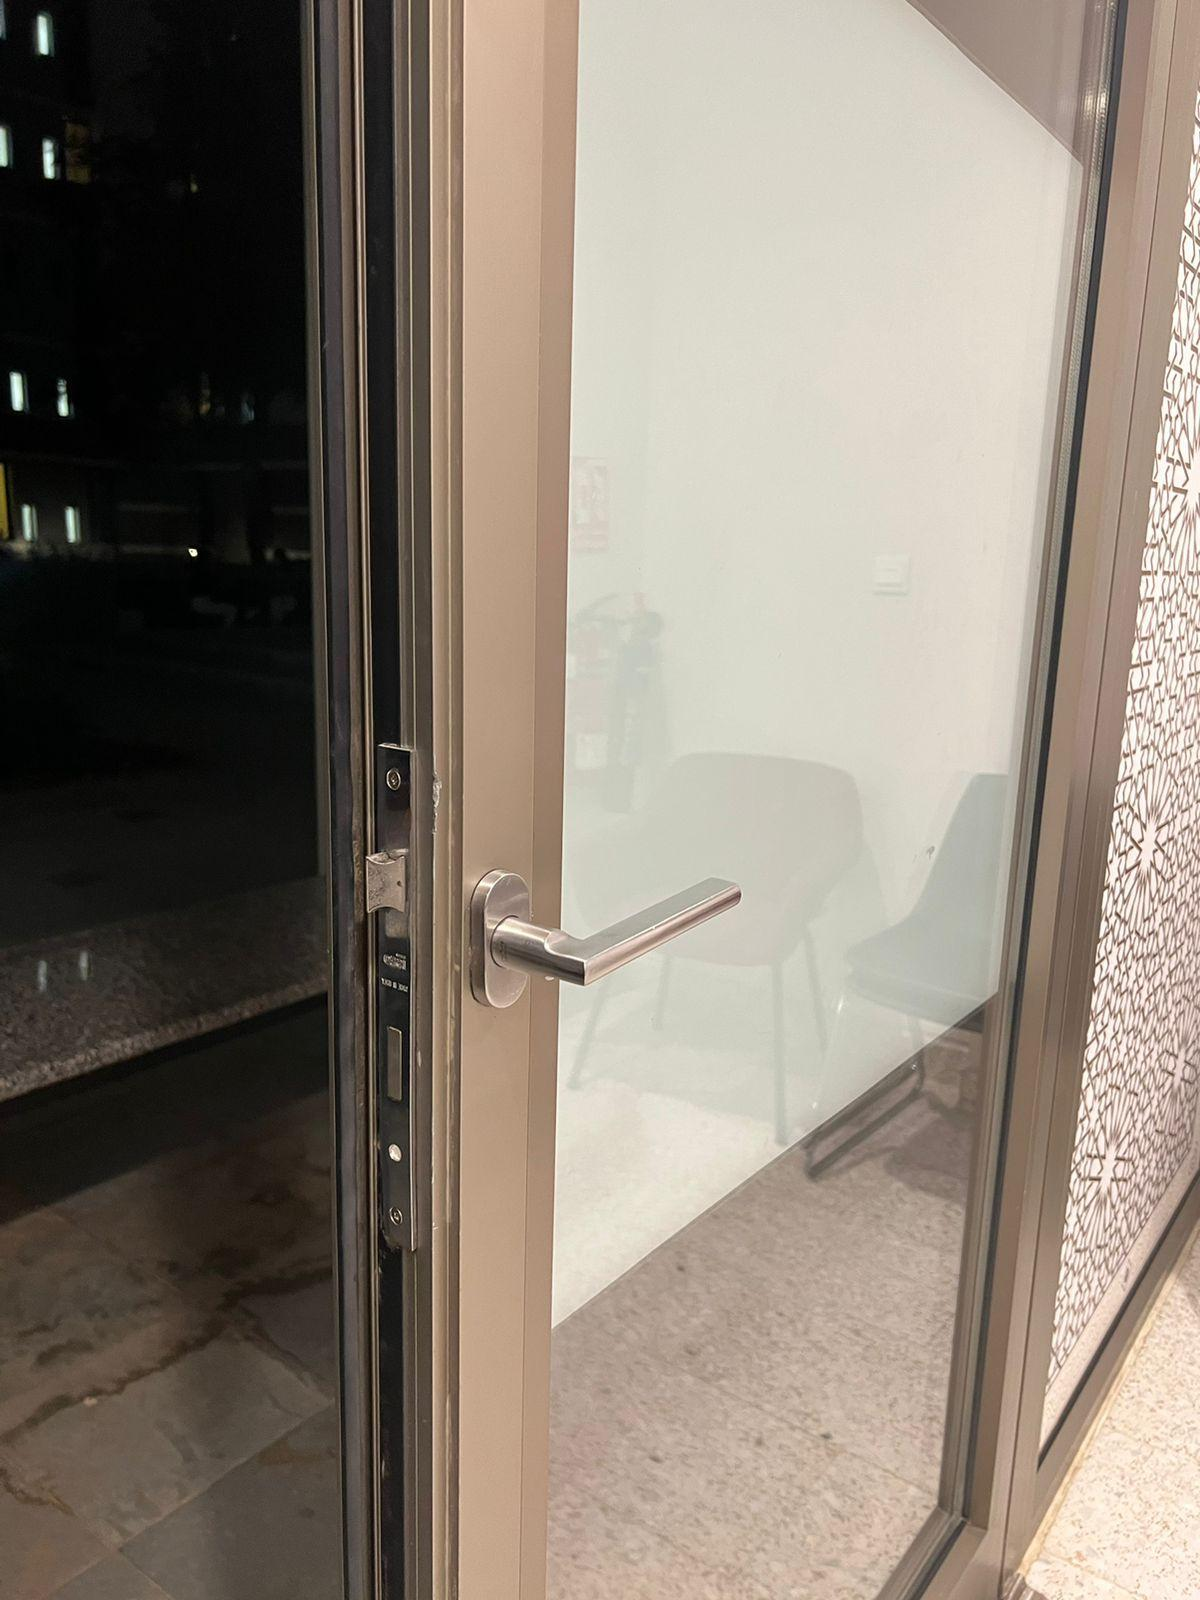door: (326, 4, 1082, 1600)
handle: (468, 868, 739, 1017)
